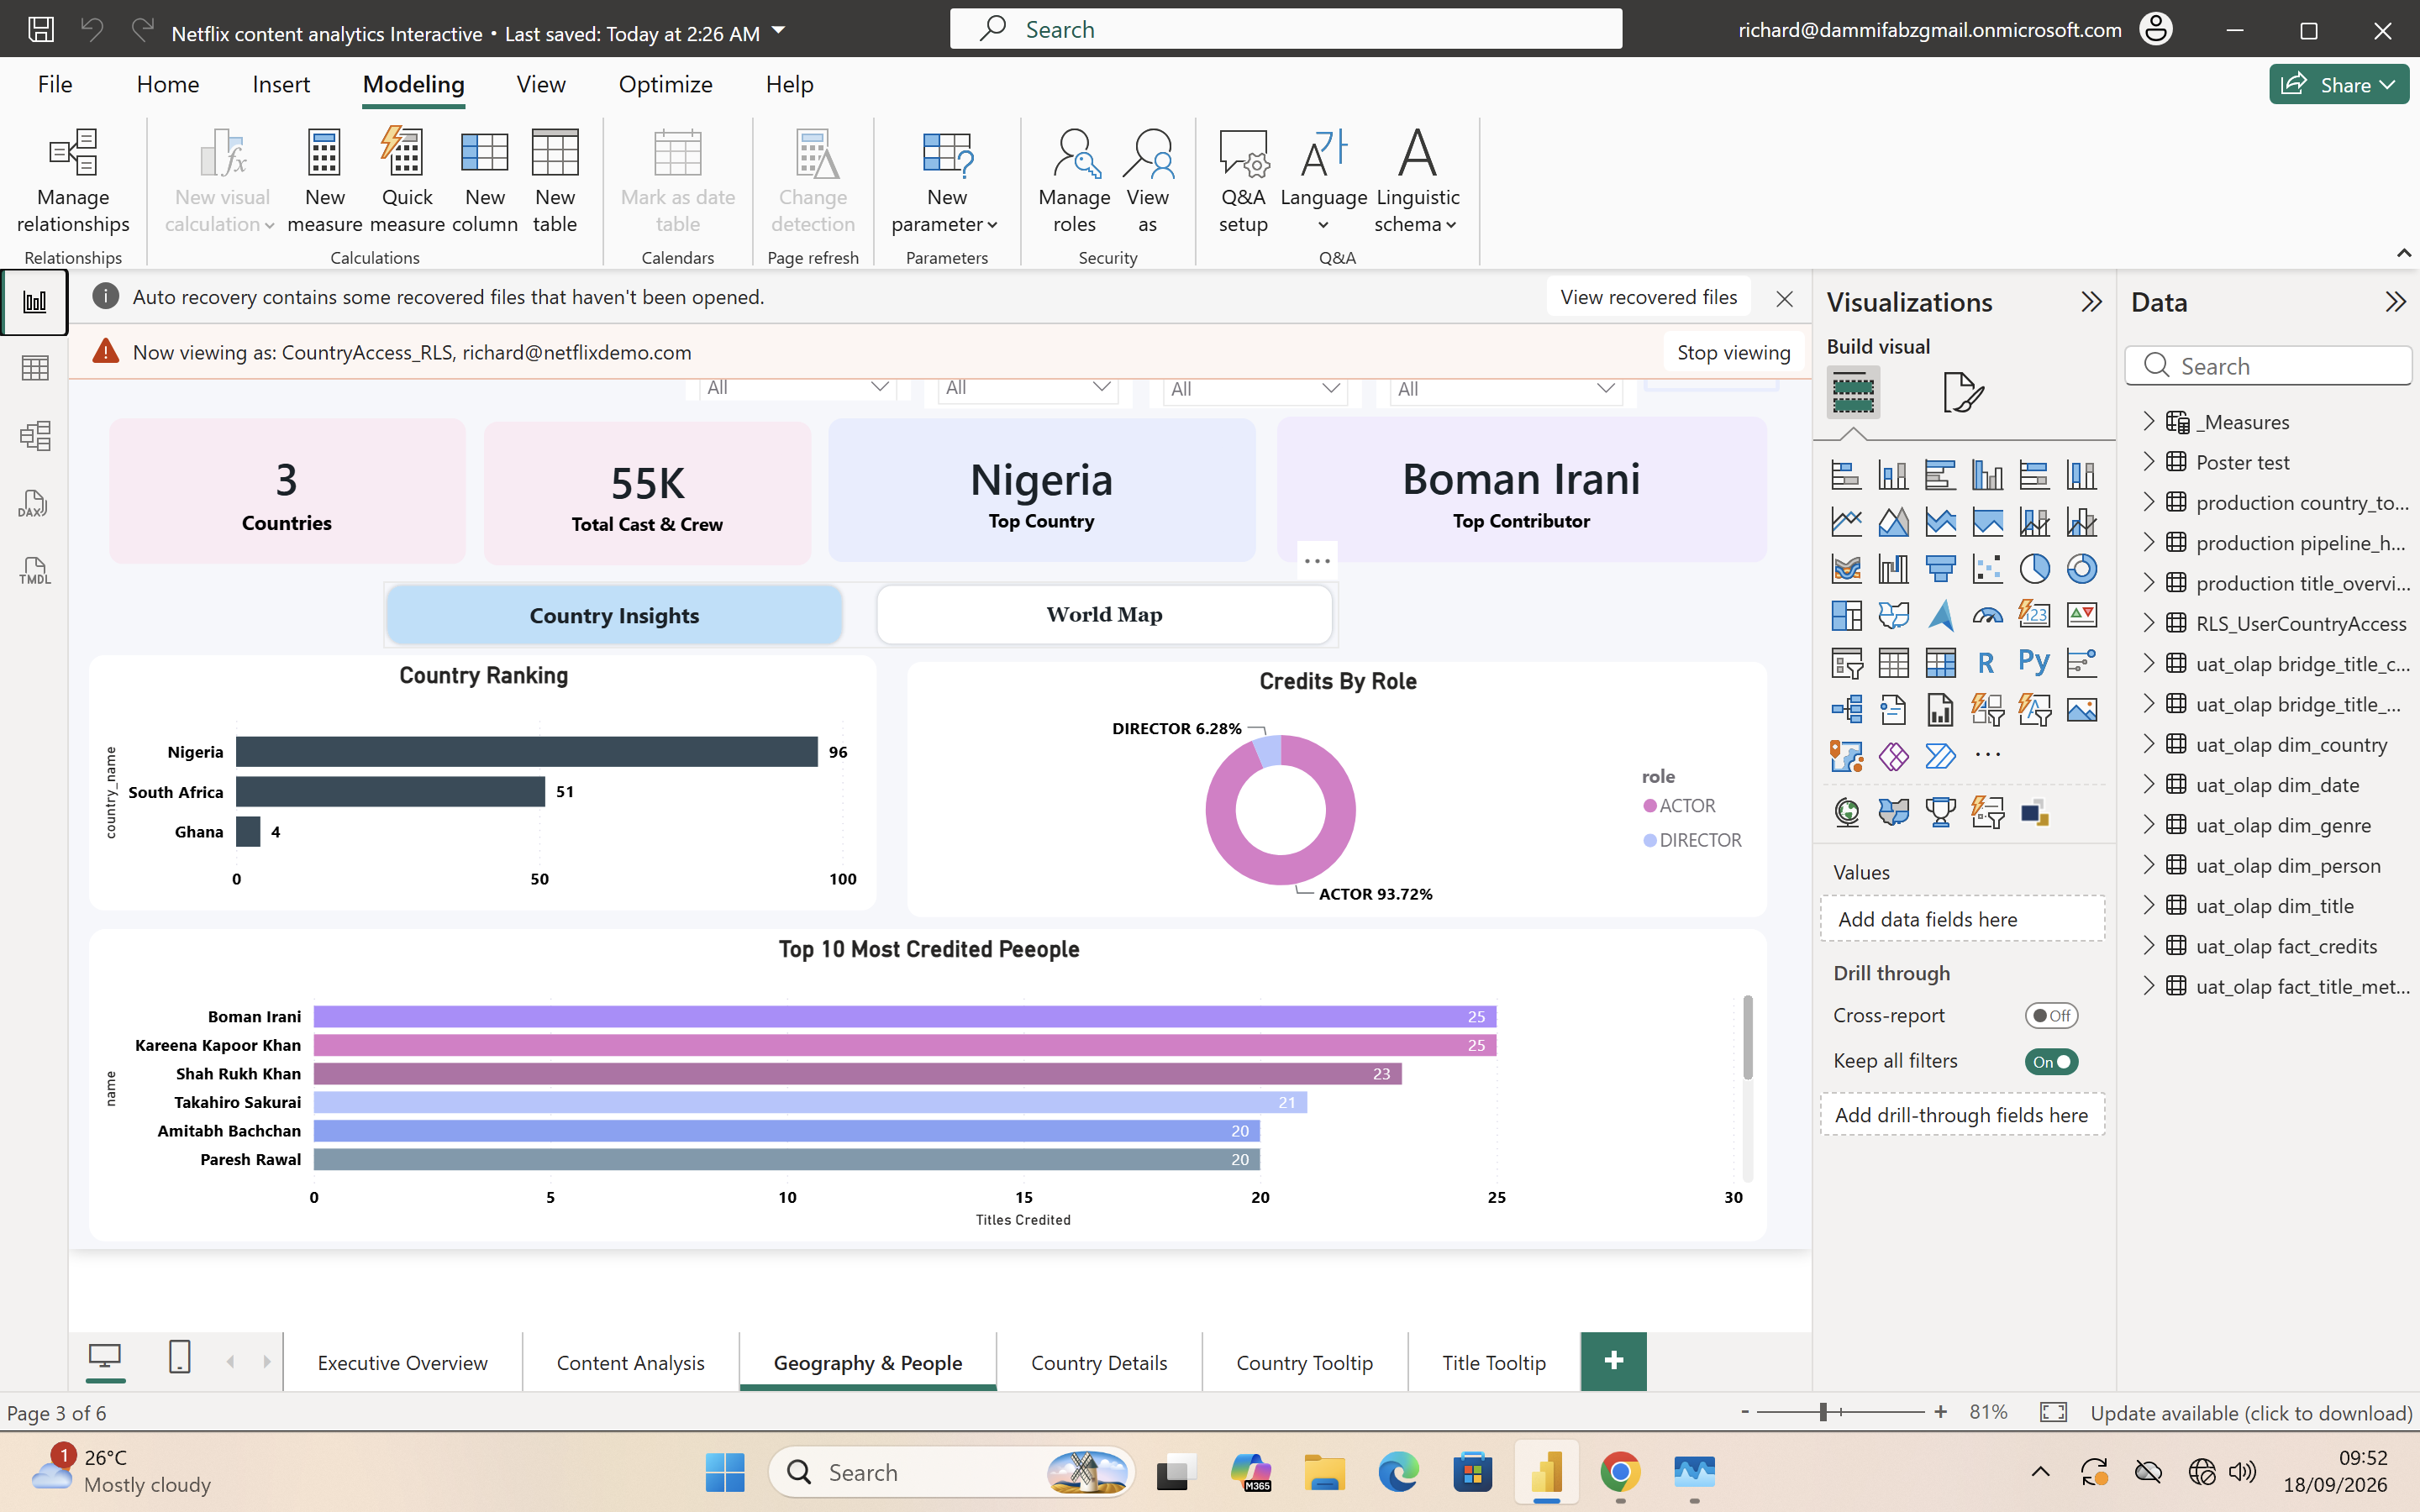

The page's visual inventory and layout, read from the dashboard file:
{"tool":"powerbi","page":{"name":"Geography & People","canvas":[1280,720],"ordinal":2},"visuals":[{"type":"slicer","fields":{"Values":["uat_olap dim_title.release_year"]},"box":[453.2,42.9,165.4,53.6],"z":0},{"type":"slicer","fields":{"Values":["uat_olap dim_title.type"]},"box":[627.8,42.9,153.1,59.7],"z":1000},{"type":"slicer","title":"hh","fields":{"Values":["uat_olap dim_genre.name"]},"box":[793.1,44.4,156.2,58.2],"z":2000},{"type":"slicer","fields":{"Values":["uat_olap dim_country.name"]},"box":[960,44.4,191.4,58.2],"z":3000},{"type":"actionButton","box":[1156.8,51.1,100,40],"z":4000},{"type":"textbox","box":[56.7,39.8,287.8,50.5],"z":5000},{"type":"cardVisual","fields":{"Data":["_Measures.Countries"]},"box":[29.1,110.2,261.8,107.2],"z":6000},{"type":"cardVisual","fields":{"Data":["_Measures.Top Country"]},"box":[557.3,110.2,313.9,105.6],"z":7000},{"type":"cardVisual","fields":{"Data":["_Measures.Top Contributor"]},"box":[888,108.7,359.8,107.2],"z":8000},{"type":"cardVisual","fields":{"Data":["_Measures.Total Cast & Crew"]},"box":[304.7,111.8,240.4,105.6],"z":9000},{"type":"azureMap","title":"World Map","fields":{"Category":["uat_olap dim_country.country_name"]},"box":[15.2,295.8,1232.6,419.1],"z":13000},{"type":"bookmarkNavigator","box":[231.3,229.5,701.6,49.3],"z":14000}]}

Visuals, with their boxes on the page's 1280x720 design canvas (x1, y1, x2, y2). These are canvas units, not pixel positions in the 2420x1512 screenshot, which may show the page scaled, cropped or inside an application window:
slicer - uat_olap dim_title.release_year: box=[453, 43, 619, 96]
slicer - uat_olap dim_title.type: box=[628, 43, 781, 103]
"hh" slicer: box=[793, 44, 949, 103]
slicer - uat_olap dim_country.name: box=[960, 44, 1151, 103]
actionButton: box=[1157, 51, 1257, 91]
textbox: box=[57, 40, 344, 90]
cardVisual - _Measures.Countries: box=[29, 110, 291, 217]
cardVisual - _Measures.Top Country: box=[557, 110, 871, 216]
cardVisual - _Measures.Top Contributor: box=[888, 109, 1248, 216]
cardVisual - _Measures.Total Cast & Crew: box=[305, 112, 545, 217]
"World Map" azureMap: box=[15, 296, 1248, 715]
bookmarkNavigator: box=[231, 230, 933, 279]
